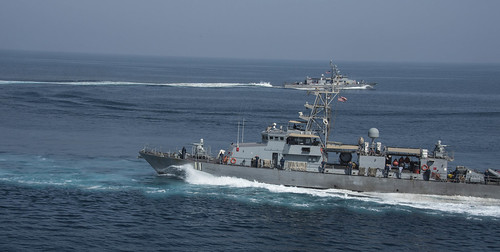boat: (156, 125, 500, 205), (272, 65, 381, 97)
sea: (12, 62, 500, 252)
sky: (1, 1, 486, 60)
